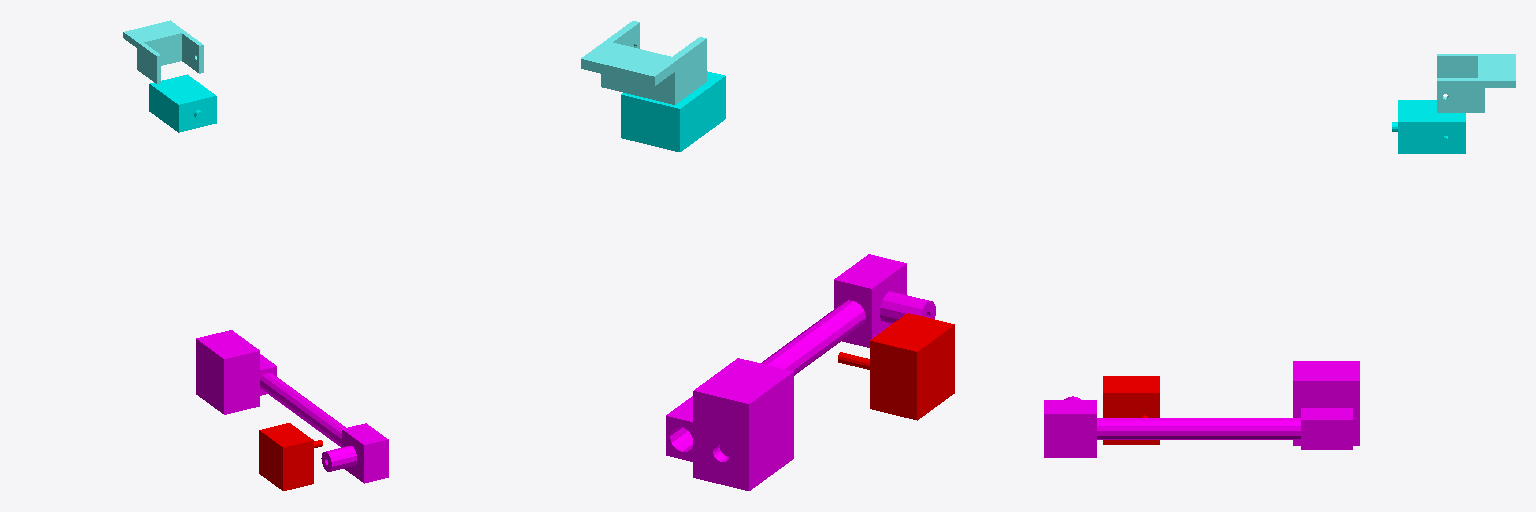
robot.urdf — cam_arm_simple_urdf:
<?xml version="1.0" encoding="utf-8"?>
<!-- This URDF was automatically created by SolidWorks to URDF Exporter! Originally created by [author] ([email redacted]) 
     Commit Version: 1.5.1-0-g916b5db  Build Version: 1.5.7152.31018
     For more information, please see http://wiki.ros.org/sw_urdf_exporter -->
<robot
  name="cam_arm_simple_urdf">
  <link
    name="base_link">
    <inertial>
      <origin
        xyz="0 -0.00050441 0.027672"
        rpy="0 0 0" />
      <mass
        value="0.12514" />
      <inertia
        ixx="5.0288E-05"
        ixy="0"
        ixz="0"
        iyy="6.2503E-05"
        iyz="0"
        izz="5.0023E-05" />
    </inertial>
    <visual>
      <origin
        xyz="0 0 0"
        rpy="0 0 0" />
      <geometry>
        <mesh
          filename="package://cam_arm_simple_urdf/meshes/base_link.STL" />
      </geometry>
      <material
        name="">
        <color
          rgba="1 0 0 1" />
      </material>
    </visual>
    <collision>
      <origin
        xyz="0 0 0"
        rpy="0 0 0" />
      <geometry>
        <mesh
          filename="package://cam_arm_simple_urdf/meshes/base_link.STL" />
      </geometry>
    </collision>
  </link>
  <link
    name="link_1">
    <inertial>
      <origin
        xyz="-0.0061946 0.024033 0.20322"
        rpy="0 0 0" />
      <mass
        value="0.35213" />
      <inertia
        ixx="0.0016152"
        ixy="0"
        ixz="0"
        iyy="0.0016596"
        iyz="0"
        izz="0.00017348" />
    </inertial>
    <visual>
      <origin
        xyz="0 0 0"
        rpy="0 0 0" />
      <geometry>
        <mesh
          filename="package://cam_arm_simple_urdf/meshes/link_1.STL" />
      </geometry>
      <material
        name="">
        <color
          rgba="1 0 1 1" />
      </material>
    </visual>
    <collision>
      <origin
        xyz="0 0 0"
        rpy="0 0 0" />
      <geometry>
        <mesh
          filename="package://cam_arm_simple_urdf/meshes/link_1.STL" />
      </geometry>
    </collision>
  </link>
  <joint
    name="joint_1"
    type="revolute">
    <origin
      xyz="0 -0.0695 0.01236"
      rpy="0 0 0" />
    <parent
      link="base_link" />
    <child
      link="link_1" />
    <axis
      xyz="0 -1 0" />
    <limit
      lower="-1.57"
      upper="1.57"
      effort="0"
      velocity="0" />
  </joint>
  <link
    name="link_2">
    <inertial>
      <origin
        xyz="0 0 0.032968"
        rpy="0 0 0" />
      <mass
        value="0.11877" />
      <inertia
        ixx="6.8518E-05"
        ixy="0"
        ixz="0"
        iyy="5.5869E-05"
        iyz="0"
        izz="3.6782E-05" />
    </inertial>
    <visual>
      <origin
        xyz="0 0 0"
        rpy="0 0 0" />
      <geometry>
        <mesh
          filename="package://cam_arm_simple_urdf/meshes/link_2.STL" />
      </geometry>
      <material
        name="">
        <color
          rgba="0 1 1 1" />
      </material>
    </visual>
    <collision>
      <origin
        xyz="0 0 0"
        rpy="0 0 0" />
      <geometry>
        <mesh
          filename="package://cam_arm_simple_urdf/meshes/link_2.STL" />
      </geometry>
    </collision>
  </link>
  <joint
    name="joint_2"
    type="revolute">
    <origin
      xyz="0 0.037 0.3065"
      rpy="0 0 0" />
    <parent
      link="link_1" />
    <child
      link="link_2" />
    <axis
      xyz="0 0 -1" />
    <limit
      lower="-3.14"
      upper="3.14"
      effort="0"
      velocity="0" />
  </joint>
  <link
    name="link_3">
    <inertial>
      <origin
        xyz="-0.0045111 0.00010667 0.032471"
        rpy="0 0 0" />
      <mass
        value="0.045421" />
      <inertia
        ixx="3.9408E-05"
        ixy="0"
        ixz="0"
        iyy="2.197E-05"
        iyz="0"
        izz="2.7493E-05" />
    </inertial>
    <visual>
      <origin
        xyz="0 0 0"
        rpy="0 0 0" />
      <geometry>
        <mesh
          filename="package://cam_arm_simple_urdf/meshes/link_3.STL" />
      </geometry>
      <material
        name="">
        <color
          rgba="0.5 1 1 1" />
      </material>
    </visual>
    <collision>
      <origin
        xyz="0 0 0"
        rpy="0 0 0" />
      <geometry>
        <mesh
          filename="package://cam_arm_simple_urdf/meshes/link_3.STL" />
      </geometry>
    </collision>
  </link>
  <joint
    name="joint_3"
    type="revolute">
    <origin
      xyz="-0.00039 0 0.04655"
      rpy="0 0 0" />
    <parent
      link="link_2" />
    <child
      link="link_3" />
    <axis
      xyz="0 1 0" />
    <limit
      lower="-1.57"
      upper="1.57"
      effort="0"
      velocity="0" />
  </joint>
</robot>

--- Facts derived from the render (not from the file) ---
3 views of the same robot in one strip: view 1: azimuth 30°, elevation 25°; view 2: azimuth 150°, elevation 25°; view 3: azimuth 270°, elevation 25° (orthographic).
Model cam_arm_simple_urdf with 4 links and 3 joints (3 revolute), rooted at base_link, posed all joints at 0.
Visible links, largest first — view 1: link_1, base_link, link_3, link_2; view 2: link_1, base_link, link_3, link_2; view 3: link_1, link_3, link_2, base_link.
Link boxes in pixels (x1=…): link_1: x1=196, y1=330, x2=388, y2=483; base_link: x1=259, y1=423, x2=322, y2=490; link_3: x1=123, y1=20, x2=203, y2=83; link_2: x1=149, y1=74, x2=216, y2=132; link_1: x1=666, y1=254, x2=935, y2=490; base_link: x1=838, y1=313, x2=954, y2=420; link_3: x1=581, y1=21, x2=706, y2=104; link_2: x1=621, y1=71, x2=725, y2=151; link_1: x1=1044, y1=361, x2=1359, y2=457; link_3: x1=1437, y1=54, x2=1515, y2=112; link_2: x1=1392, y1=100, x2=1465, y2=153; base_link: x1=1103, y1=376, x2=1159, y2=444.
Size in the robot's own frame: 0.1055 by 0.458 by 0.4108 metres.
Meshes: 4 distinct files referenced, 4 mesh visuals loaded (4 binary STL).